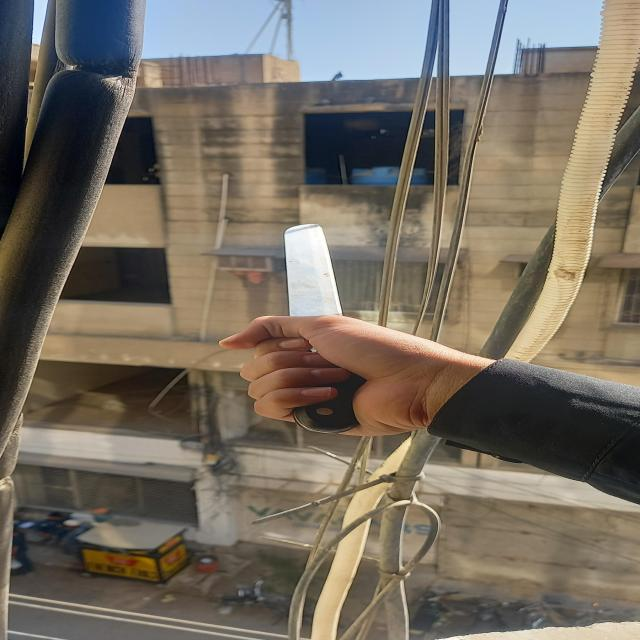Knife: (287, 224, 358, 434)
Person: (217, 315, 640, 505)
